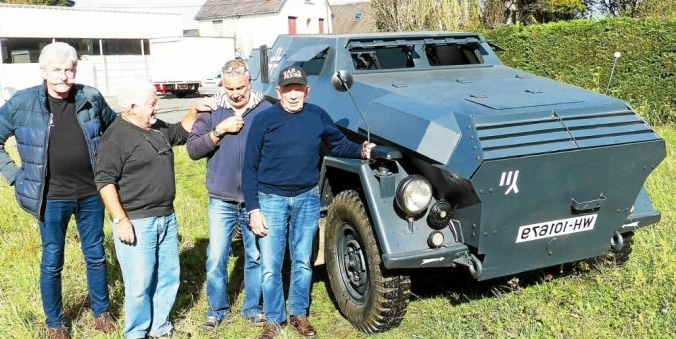license_plate: (519, 213, 599, 240)
